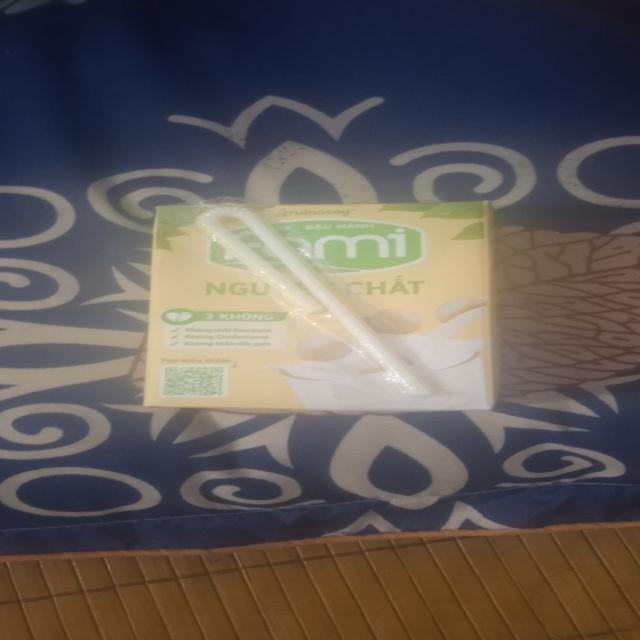Fami: (153, 206, 493, 411)
